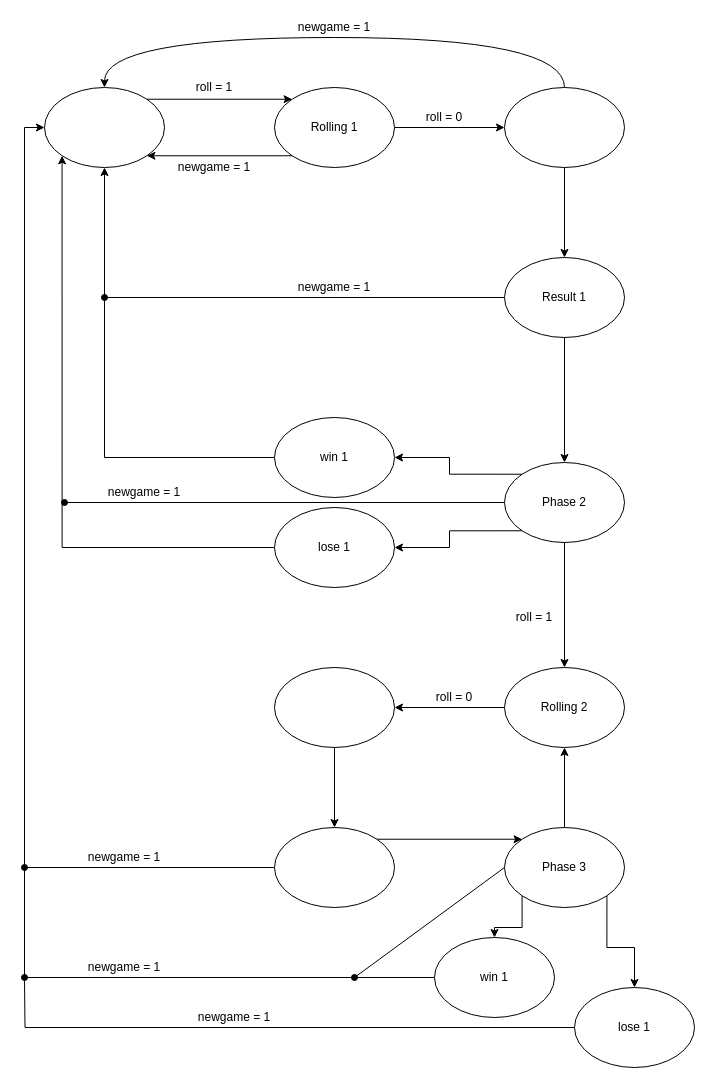
Some shapes in this 712 by 1085 pixel diagram are drawn without their labels. The box of each missing label's shape, as (x1, y1, x2, y2) in pixels:
Phase1: (44, 86, 164, 168)
Result 2: (274, 826, 394, 908)
Stop Rolling 1: (504, 86, 624, 168)
Stop Rolling 2: (274, 666, 394, 748)
